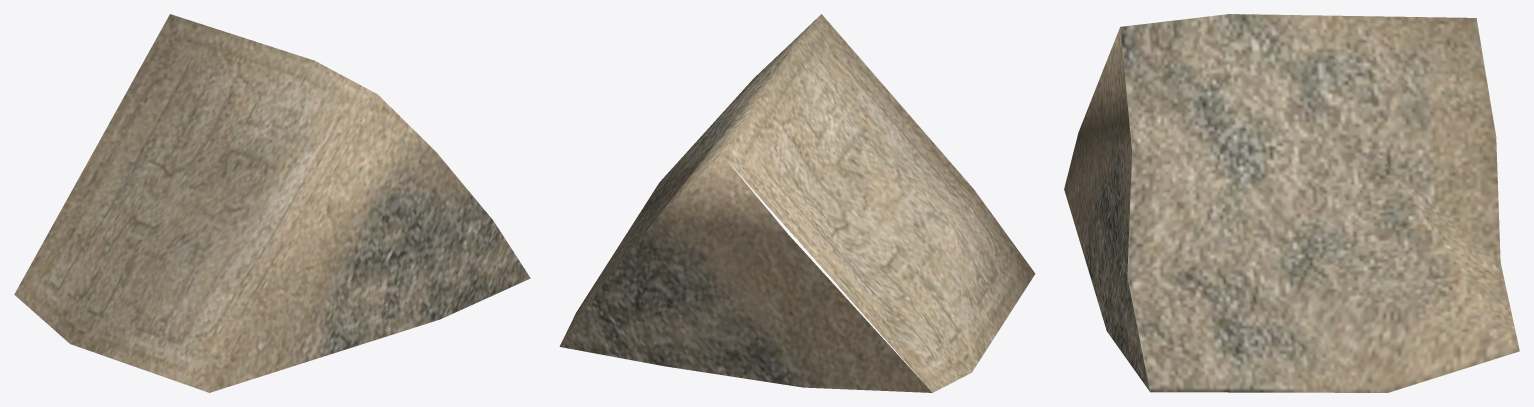
The model's file is desert-bigstone02_lod_01.glb.
3 views of the same model, side by side, from view 1: azimuth 30°, elevation 25°; view 2: azimuth 150°, elevation 25°; view 3: azimuth 270°, elevation 25° (orthographic). The views are drawn at different scales.
Visible parts, largest first — view 1: desert-bigstone; view 2: desert-bigstone; view 3: desert-bigstone.
Part boxes in pixels (x1,y1,x2,y2): desert-bigstone: (14, 14, 530, 392); desert-bigstone: (559, 14, 1035, 392); desert-bigstone: (1064, 14, 1519, 392).
Bounding box in the file's own units: 4.5 × 2.7 × 3.79.
Materials: 1 (1 with a texture image).
